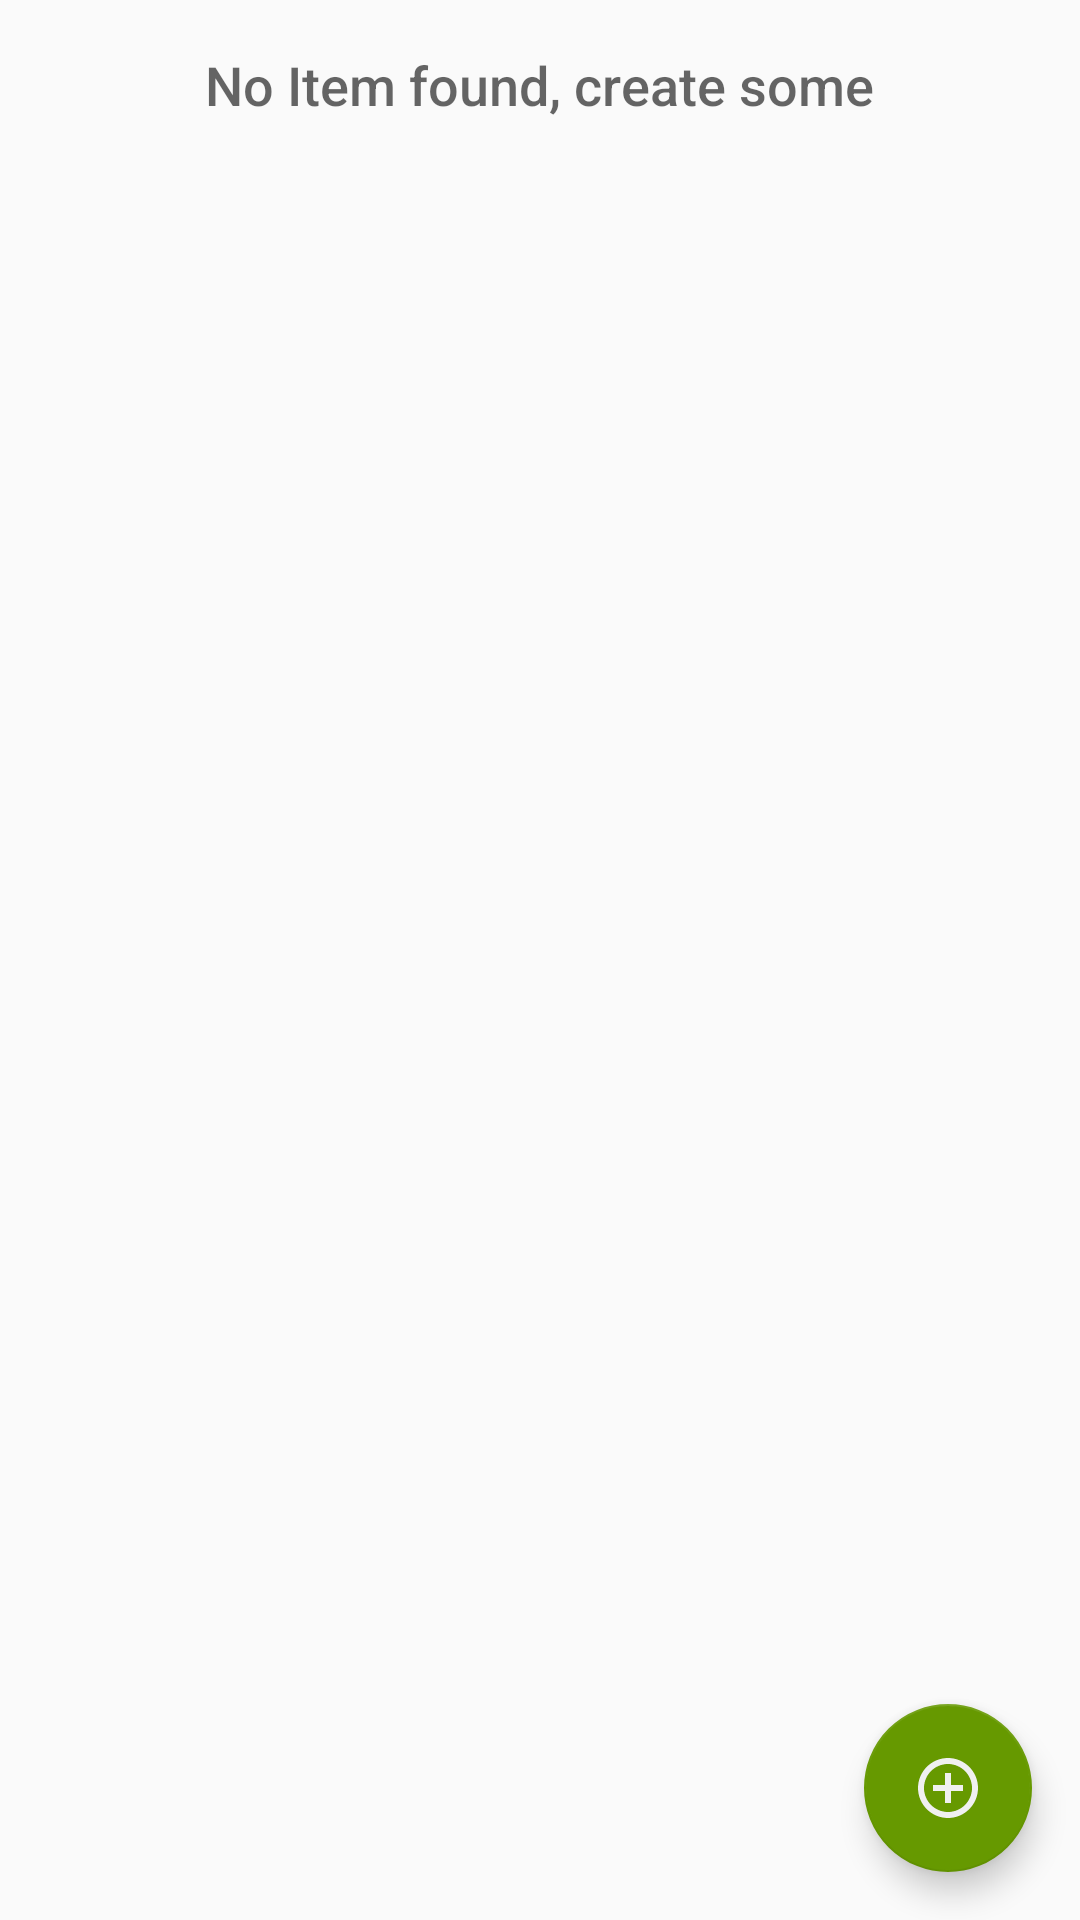

Screen size 1080w x 1920h. Icon name, then its box in pixels as (x1, y1, x2, y2):
control point: (864, 1704, 1032, 1872)
